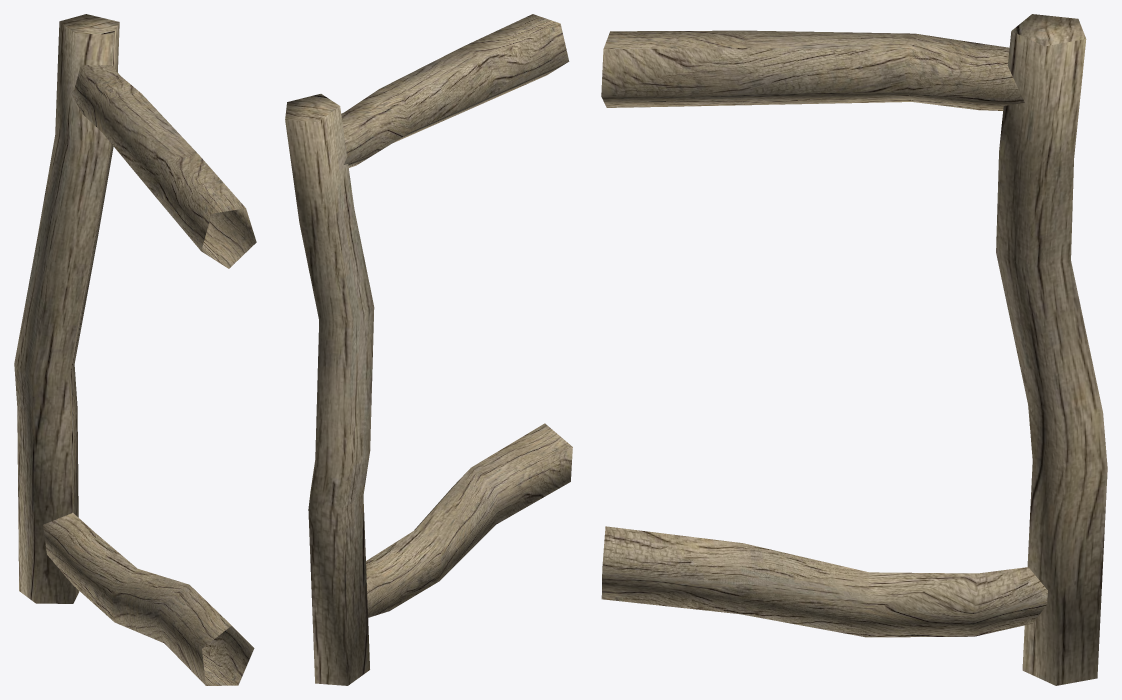
File: wood fence beach.fbx
3 renders of one model, left to right at view 1: azimuth 30°, elevation 25°; view 2: azimuth 150°, elevation 25°; view 3: azimuth 270°, elevation 25°, orthographic. The views are drawn at different scales.
Parts seen in each view (by area): view 1: Circle; view 2: Circle; view 3: Circle.
Boxes of the visible parts, x1=… form: Circle: x1=14, y1=14, x2=256, y2=685; Circle: x1=285, y1=14, x2=572, y2=685; Circle: x1=601, y1=14, x2=1107, y2=685.
Size of the model in its own units: 0.5621 by 2.91 by 2.01.
